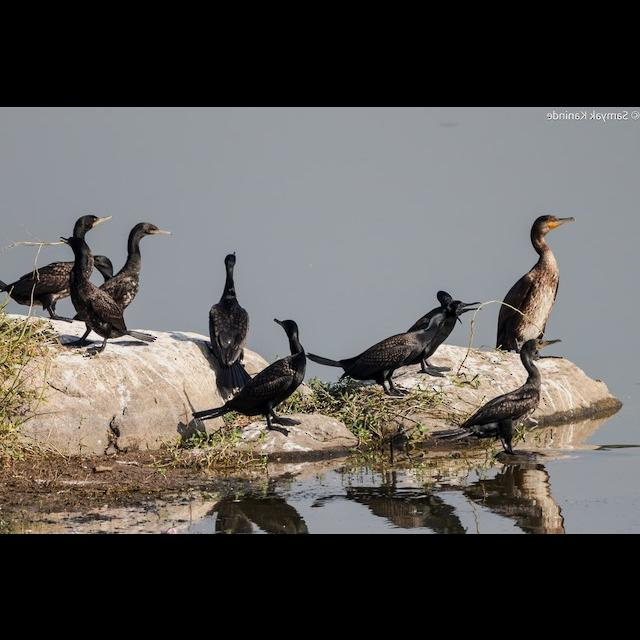cormorant: (482, 206, 578, 354), (458, 331, 568, 455), (188, 316, 308, 429), (55, 230, 149, 346), (204, 250, 246, 366)
